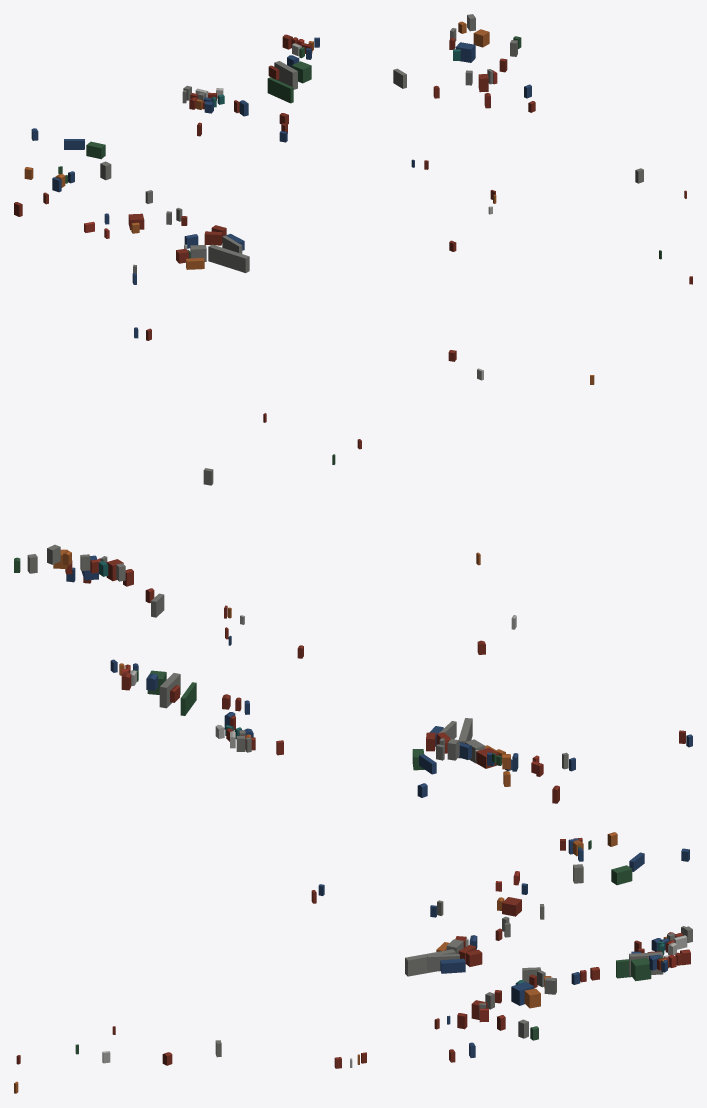
The model's file is near-15-27353-14863.14688fdc.glb.
3 renders of one model, top to bottom at view 1: azimuth 30°, elevation 25°; view 2: azimuth 150°, elevation 25°; view 3: azimuth 270°, elevation 25°, orthographic. The views are drawn at different scales.
Bounding box in the file's own units: 1040 × 348 × 1139.
